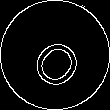O_NE: (22, 22, 88, 88)
